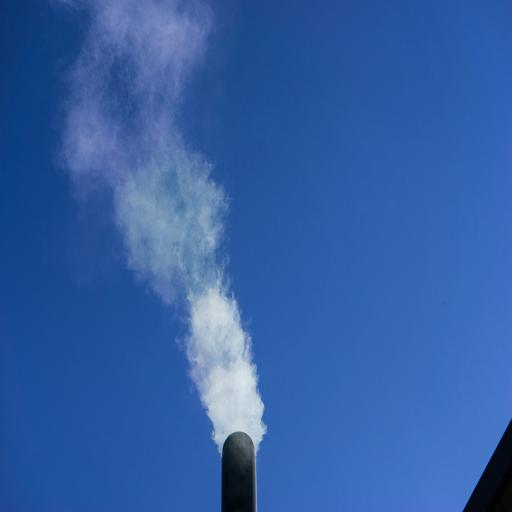smoke: (71, 36, 291, 457)
